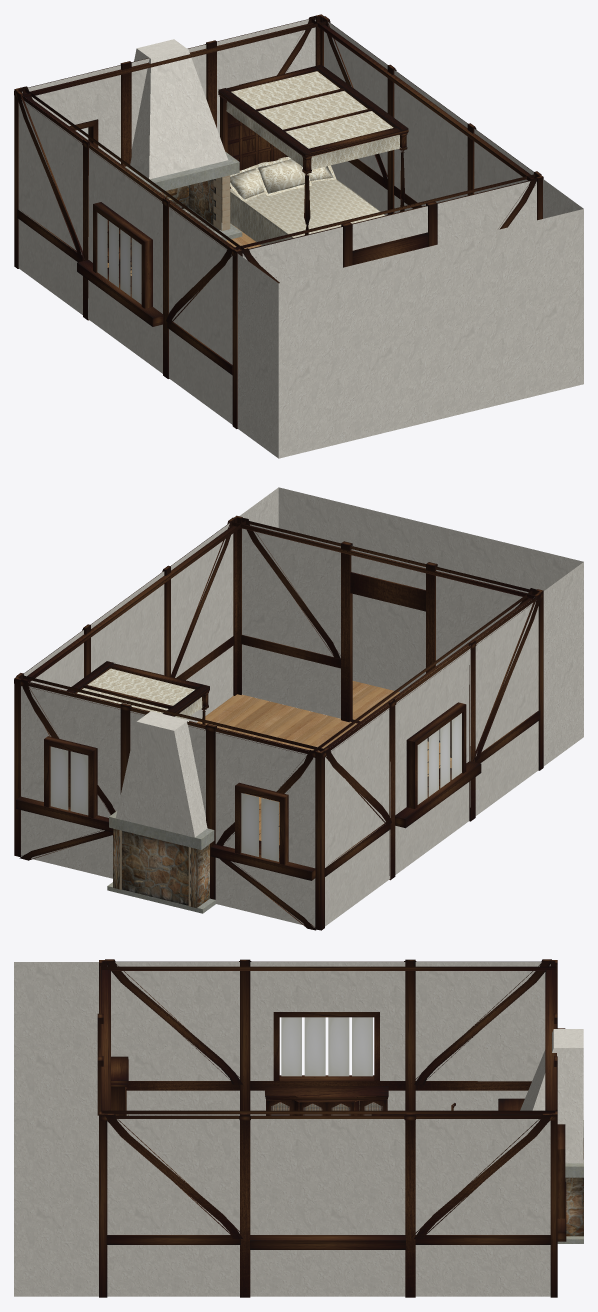
File: Room.fbx
3 views of the same model, one above another, from view 1: azimuth 30°, elevation 25°; view 2: azimuth 150°, elevation 25°; view 3: azimuth 270°, elevation 25° (orthographic). The views are drawn at different scales.
Parts seen in each view (by area): view 1: 暖炉のある寝室(家具付き)_mesh; view 2: 暖炉のある寝室(家具付き)_mesh; view 3: 暖炉のある寝室(家具付き)_mesh.
Boxes of the visible parts, <box> form: 暖炉のある寝室(家具付き)_mesh: <box>14,14,583,458</box>; 暖炉のある寝室(家具付き)_mesh: <box>14,487,583,930</box>; 暖炉のある寝室(家具付き)_mesh: <box>14,959,583,1297</box>.
Size of the model in its own units: 551 by 286 by 801.
20 materials, 18 textured.
